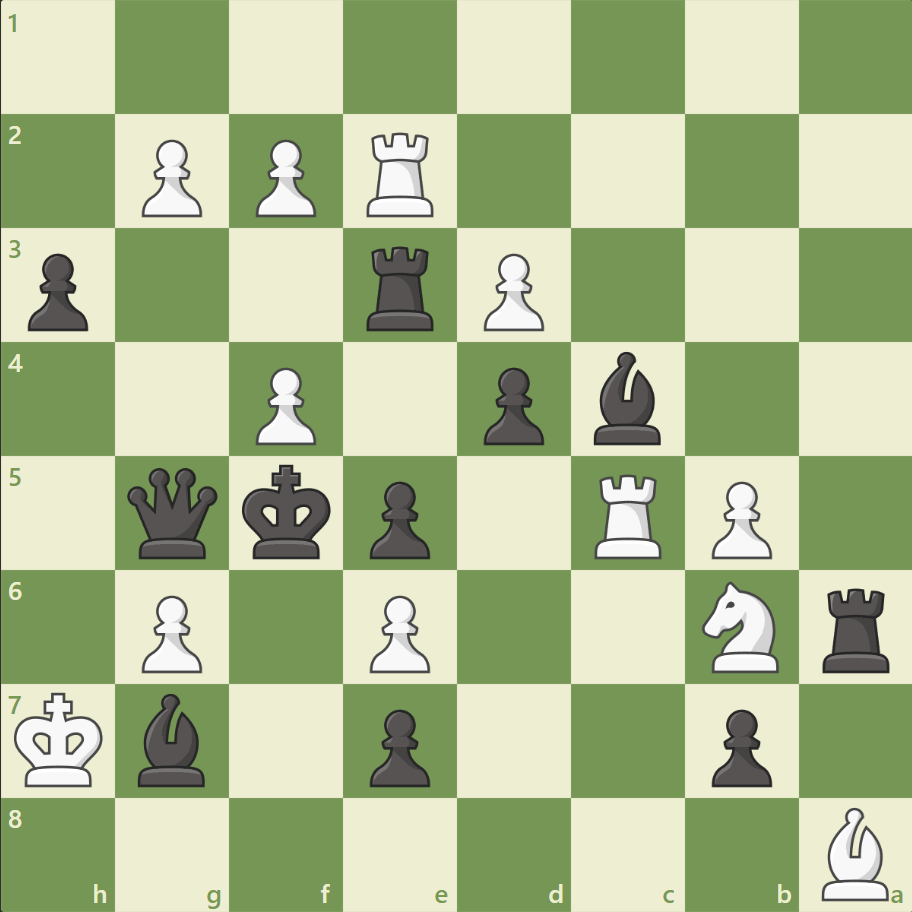B: (812, 801, 896, 904)
K: (11, 685, 111, 793)
N: (692, 575, 789, 677)
P: (133, 586, 208, 677), (701, 473, 776, 564), (247, 359, 322, 450), (474, 246, 549, 337), (247, 132, 322, 223), (133, 132, 208, 223), (361, 586, 435, 677)
R: (587, 466, 670, 563), (360, 125, 442, 222)
b: (131, 687, 215, 790), (585, 347, 669, 449)
k: (238, 458, 338, 566)
p: (701, 700, 776, 791), (474, 359, 549, 450), (20, 246, 95, 337), (361, 700, 435, 791), (361, 473, 435, 564)
q: (124, 463, 223, 562)
r: (814, 579, 897, 676), (360, 239, 442, 336)
